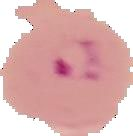parasitized: (50, 33, 107, 87)
